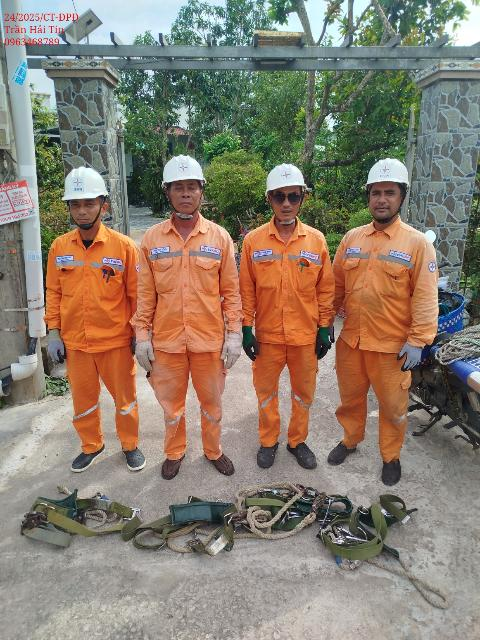gloves: (41, 326, 72, 369), (130, 336, 162, 375), (398, 341, 430, 374), (238, 326, 259, 363), (223, 326, 239, 371), (312, 326, 330, 362), (325, 313, 340, 344)
helmet: (256, 160, 316, 203), (54, 162, 112, 206), (155, 148, 210, 191), (368, 156, 409, 188)
shoes: (109, 434, 150, 481), (146, 446, 188, 487), (323, 431, 363, 473), (62, 441, 107, 478), (205, 449, 241, 491), (288, 439, 325, 468), (378, 455, 403, 490), (253, 438, 276, 476)
